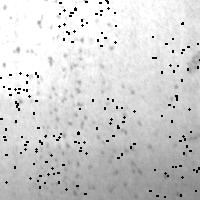pitted_surface: (23, 1, 144, 199), (159, 49, 198, 198), (26, 133, 84, 193), (77, 98, 133, 157), (152, 22, 200, 79), (58, 0, 117, 45), (3, 135, 58, 181), (161, 94, 200, 152), (0, 72, 37, 128), (147, 165, 200, 200)
